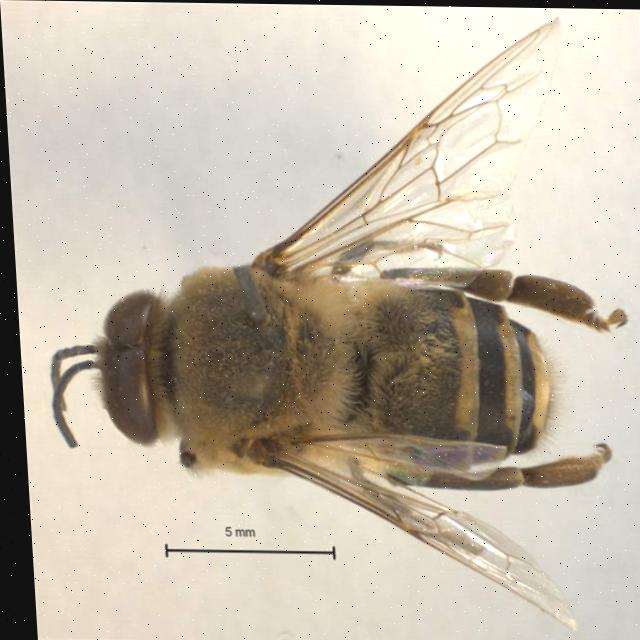Apis-mellifera-scutellata: (38, 0, 640, 630)
